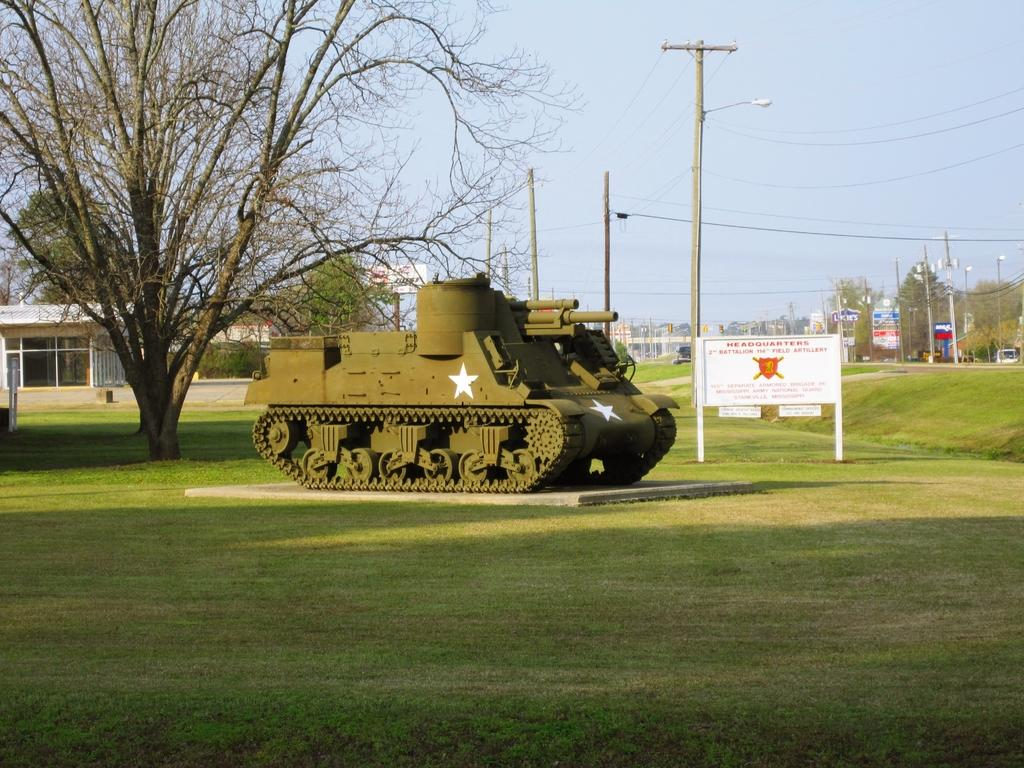Tank: (243, 271, 680, 492)
